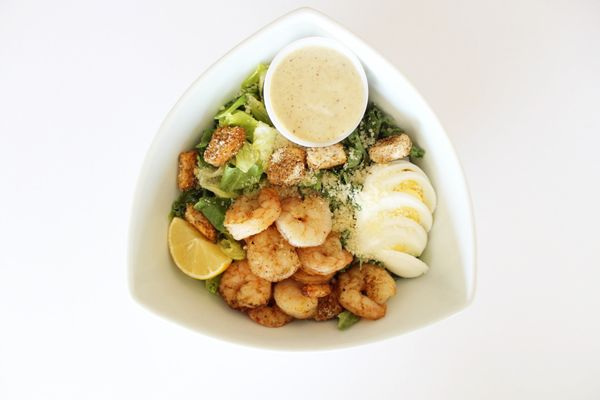curry: (214, 62, 271, 139)
sushi: (127, 13, 513, 364)
